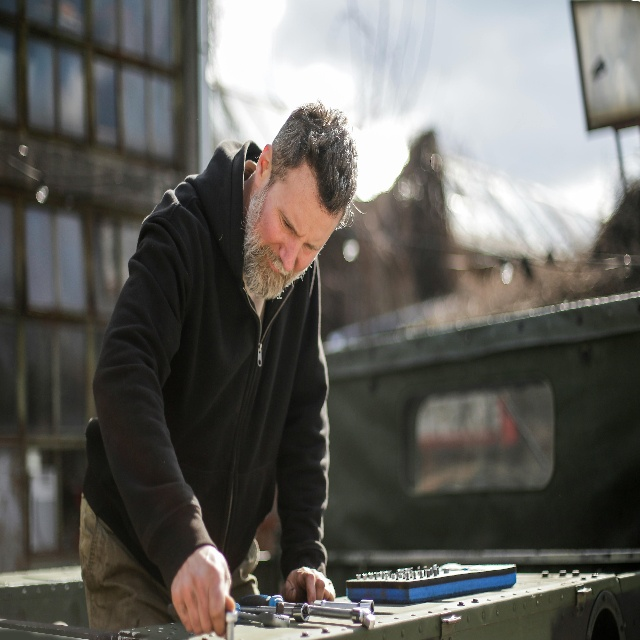Sin_guantes: (174, 550, 238, 631), (283, 569, 337, 600)
